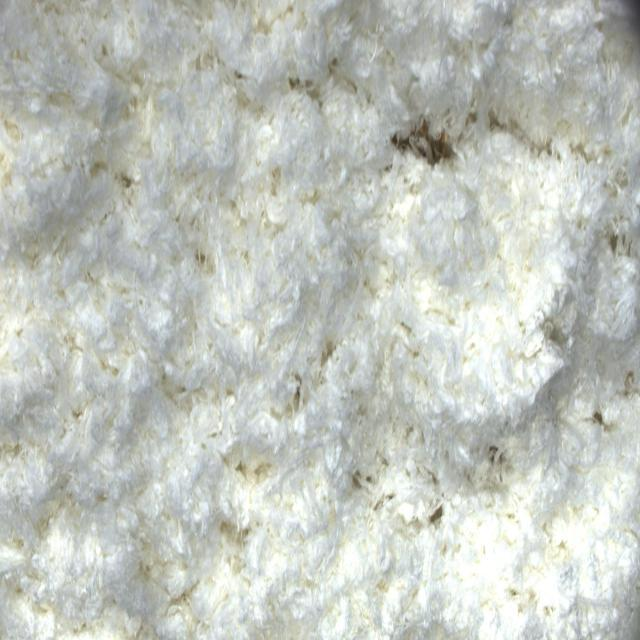dust: (388, 114, 458, 171)
